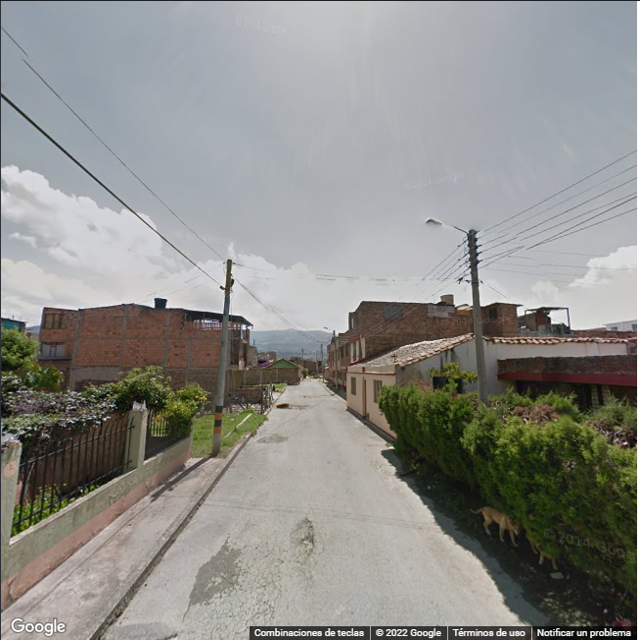D20: (186, 546, 277, 638)
D40: (286, 513, 313, 557)
